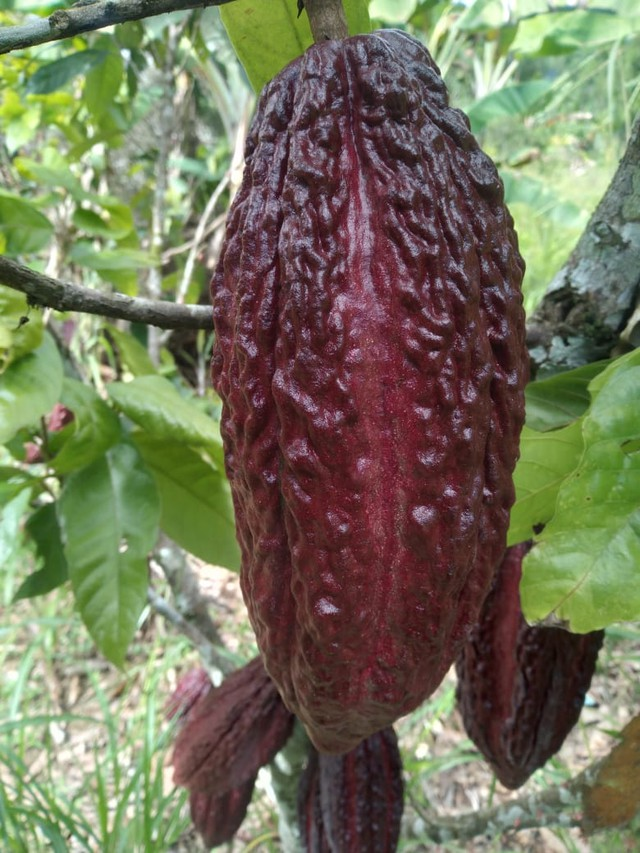Health: (205, 11, 543, 764)
